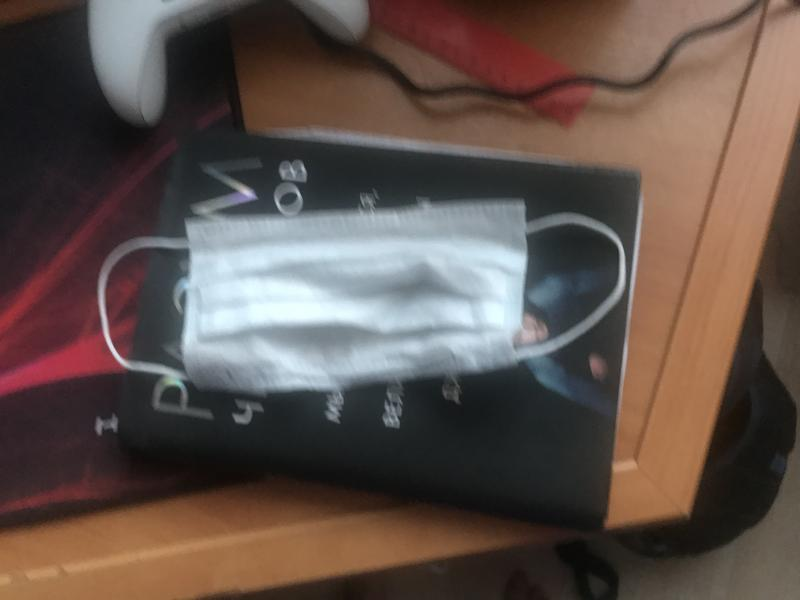medical_mask: (98, 200, 627, 385)
